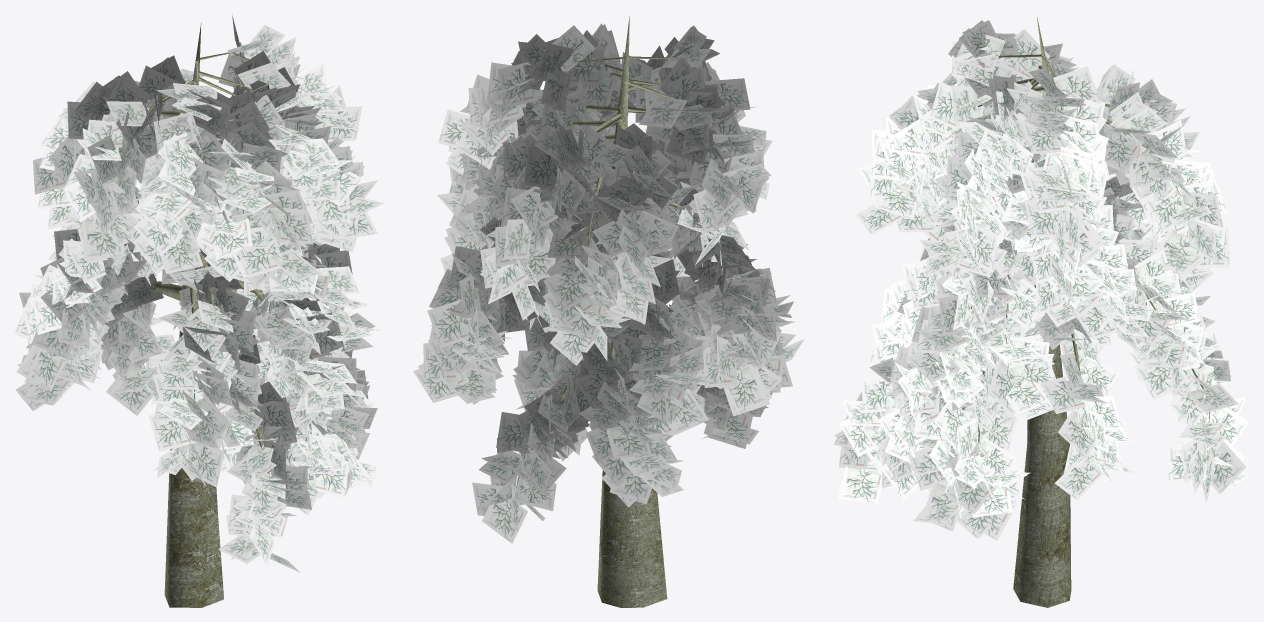
File: FireGinko.obj
3 renders of one model, left to right at view 1: azimuth 30°, elevation 25°; view 2: azimuth 150°, elevation 25°; view 3: azimuth 270°, elevation 25°, orthographic.
Visible parts, largest first — view 1: trunk; view 2: trunk; view 3: trunk.
Boxes of the visible parts, left/top/right/bottom form: trunk: left=14, top=14, right=384, bottom=607; trunk: left=413, top=16, right=804, bottom=607; trunk: left=833, top=15, right=1249, bottom=607.
Bounding box in the file's own units: 11.53 × 18.68 × 12.13.
